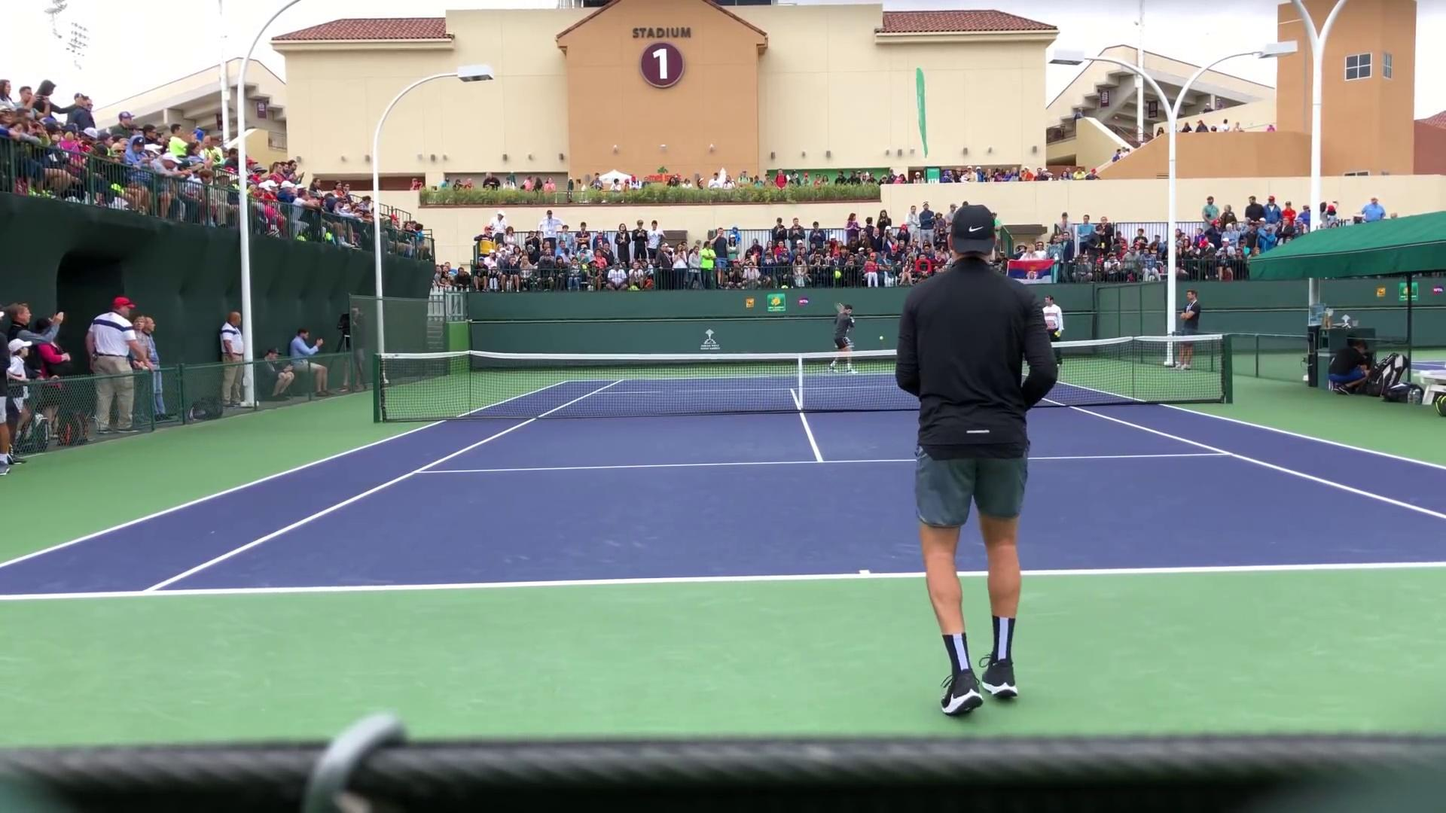ball: (877, 335, 884, 341)
